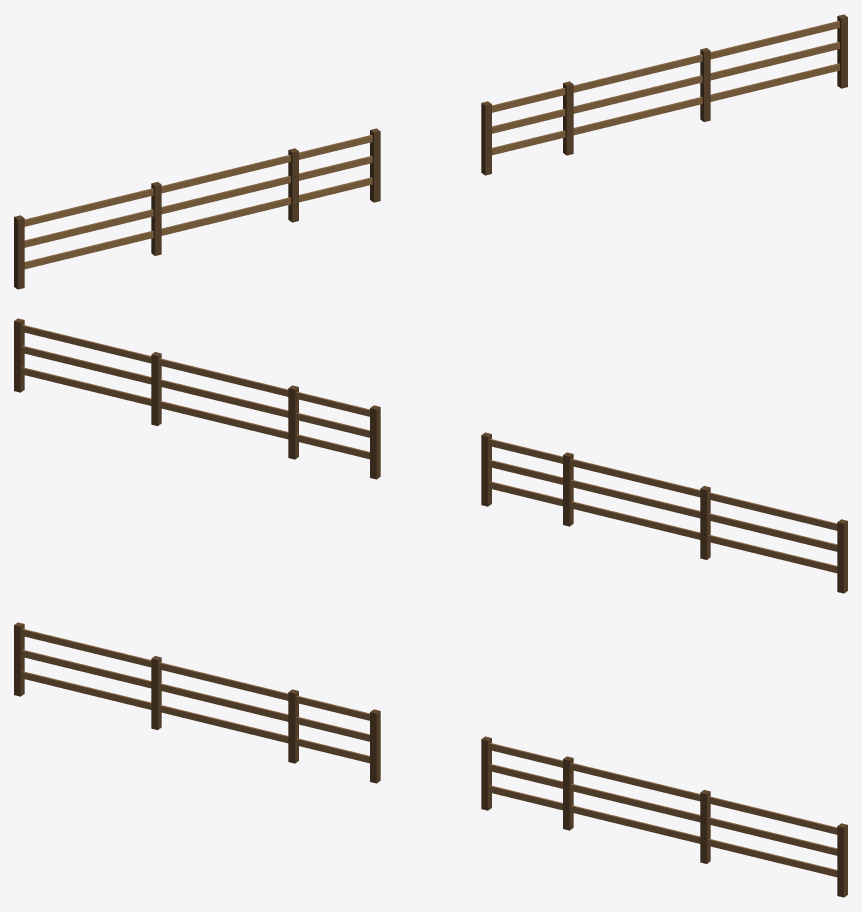
File: pv_pastvina_plot_otvor.glb
3 renders of one model, top to bottom at view 1: azimuth 30°, elevation 25°; view 2: azimuth 150°, elevation 25°; view 3: azimuth 330°, elevation 25°, orthographic.
Parts seen in each view (by area): view 1: pv_pastvina_plot_otvor; view 2: pv_pastvina_plot_otvor; view 3: pv_pastvina_plot_otvor.
Part boxes in pixels (<box>): pv_pastvina_plot_otvor: <box>14,14,847,289</box>; pv_pastvina_plot_otvor: <box>14,318,847,593</box>; pv_pastvina_plot_otvor: <box>14,622,847,897</box>.
Bounding box in the file's own units: 14.92 × 1.2 × 0.1202.
Materials: 1 (1 with a texture image).
